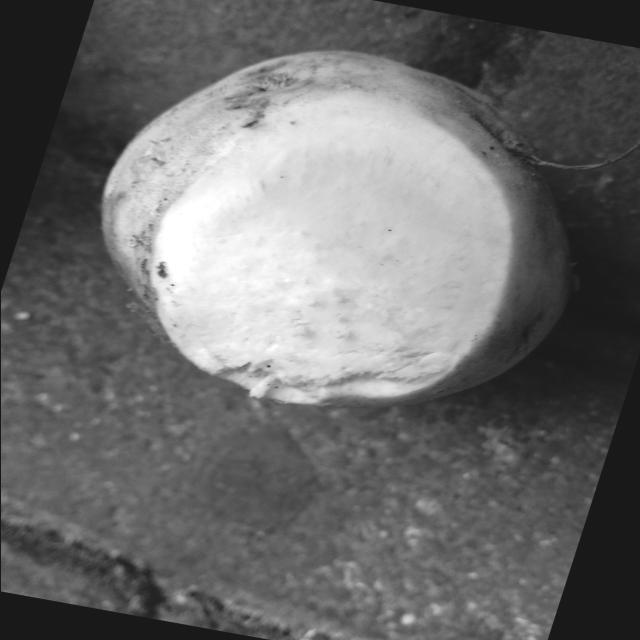Healthy Sweet Potato: (150, 91, 510, 405)
